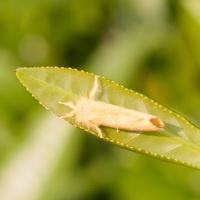insect: (60, 75, 163, 137)
